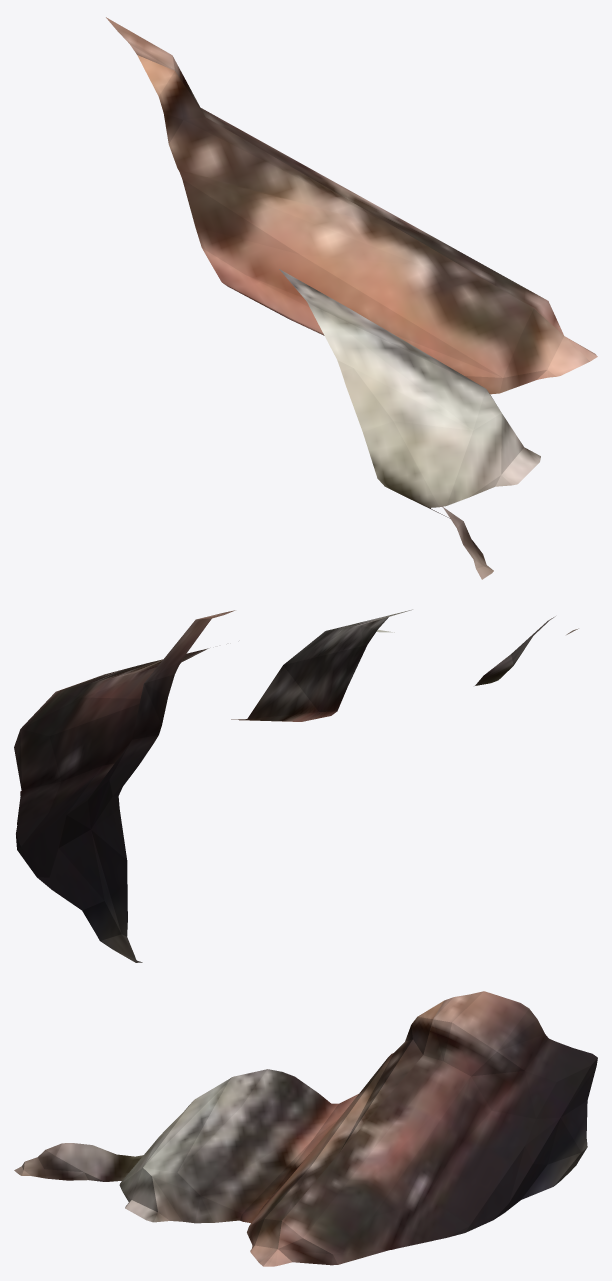
3 renders of one model, top to bottom at view 1: azimuth 30°, elevation 25°; view 2: azimuth 150°, elevation 25°; view 3: azimuth 270°, elevation 25°, orthographic. The views are drawn at different scales.
Size of the model in its own units: 0.304 by 0.2636 by 0.7784.
1 material, 1 textured.
